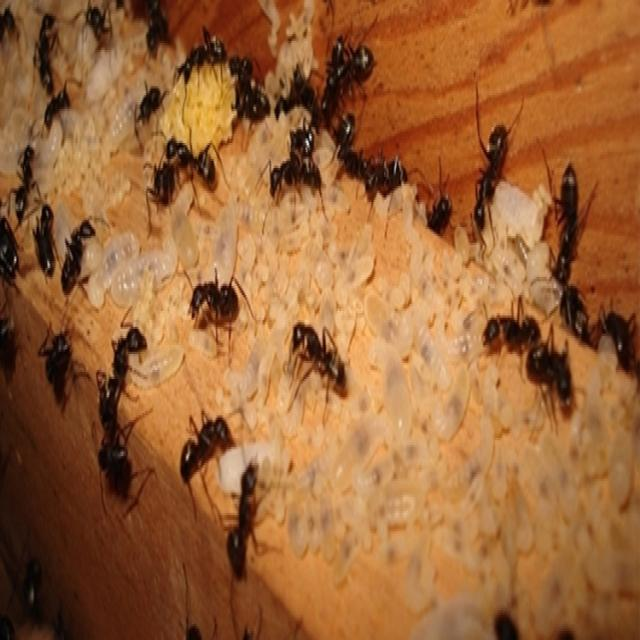Egg: (113, 234, 178, 307), (366, 294, 412, 358), (382, 346, 412, 436), (434, 364, 470, 439), (212, 201, 238, 288), (135, 342, 185, 386), (464, 418, 494, 484), (172, 201, 198, 272), (356, 458, 395, 491), (344, 253, 374, 293), (258, 343, 276, 404), (325, 184, 351, 213), (455, 225, 470, 263), (282, 230, 301, 254)
Minor: (286, 320, 347, 423), (186, 266, 258, 352), (166, 128, 228, 209), (60, 214, 97, 295)
